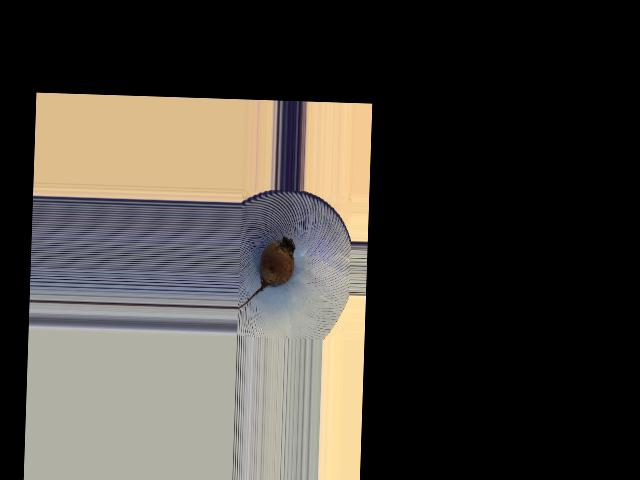beet: (237, 234, 294, 310)
